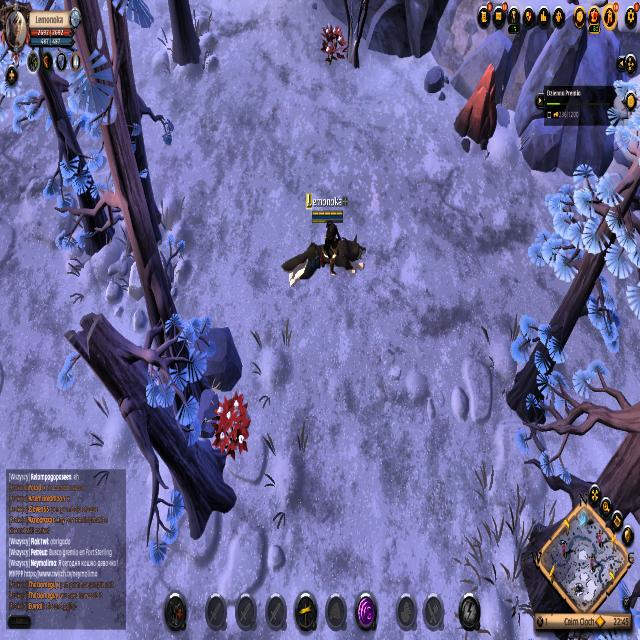fiber tier 5: (212, 388, 250, 464), (319, 22, 352, 74)
rock tier 5: (454, 60, 500, 157)
